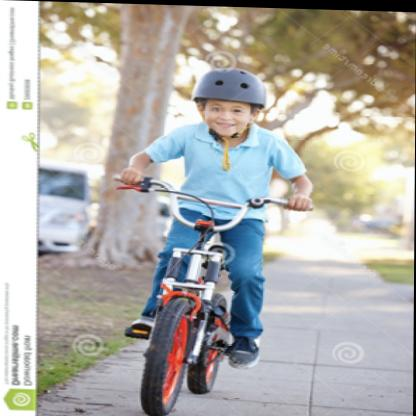With Helmet: (188, 62, 276, 136)
